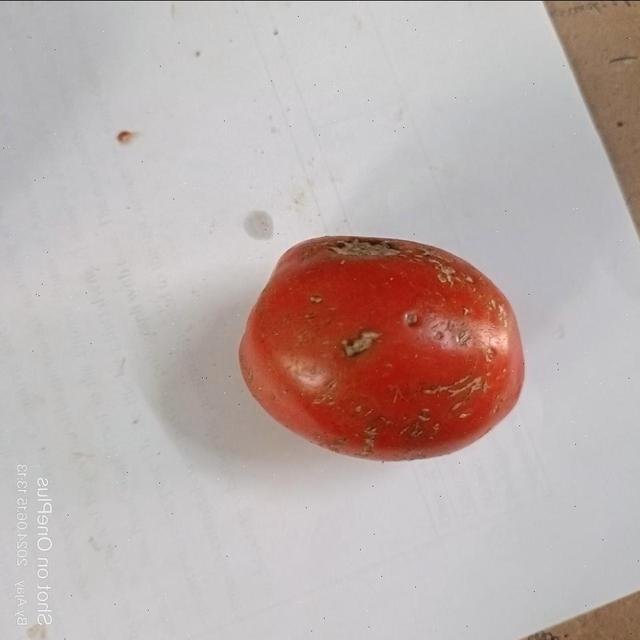Bacterial Spot Fruit: (12, 10, 276, 228)
